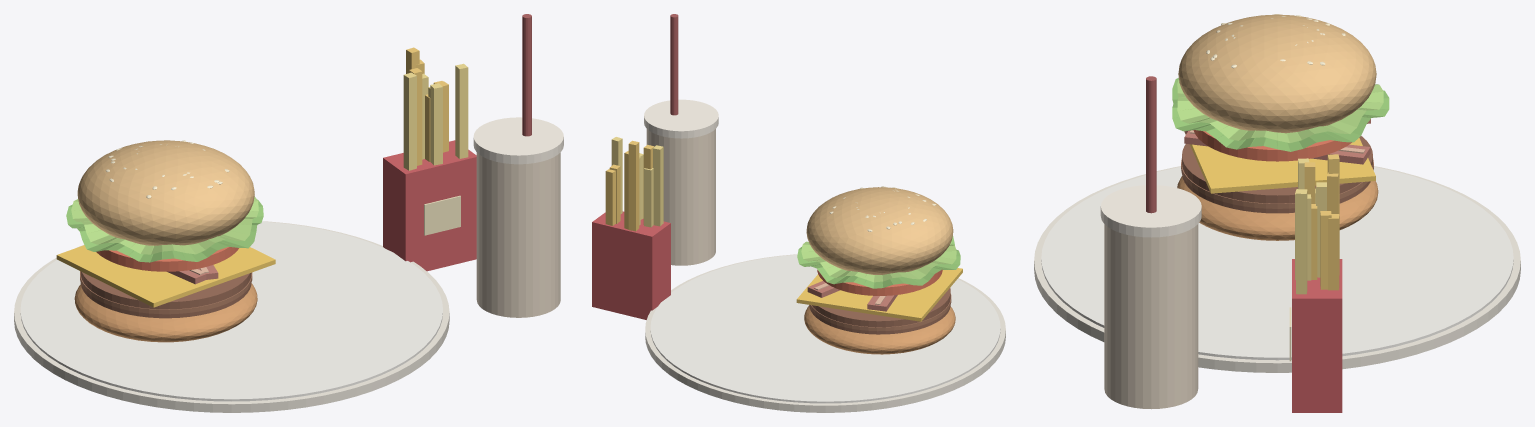
Rendered from combo-burger.glb.
3 renders of one model, left to right at view 1: azimuth 30°, elevation 25°; view 2: azimuth 150°, elevation 25°; view 3: azimuth 270°, elevation 25°, orthographic. The views are drawn at different scales.
Parts seen in each view (by area): view 1: borda_prato_2, pao_superior_14, copo_67, embalagem_fritas_53, prato_ceramica_1, queijo_6, pao_inferior_3, tampa_68, base_carne_4, alface_ondulada_13, alface_ondulada_12, tomate_11 (+7 smaller); view 2: borda_prato_2, pao_superior_14, embalagem_fritas_53, copo_67, prato_ceramica_1, pao_inferior_3, queijo_6, tampa_68, base_carne_4, alface_ondulada_13, alface_ondulada_12, batata_frita_61 (+8 smaller); view 3: borda_prato_2, pao_superior_14, copo_67, embalagem_fritas_53, prato_ceramica_1, queijo_6, tampa_68, pao_inferior_3, alface_ondulada_13, base_carne_4, alface_ondulada_12, tomate_11 (+9 smaller).
Boxes of the visible parts, bbox=[...] form: borda_prato_2: bbox=[20, 221, 442, 401]; pao_superior_14: bbox=[77, 140, 254, 245]; copo_67: bbox=[476, 152, 560, 317]; embalagem_fritas_53: bbox=[383, 140, 476, 271]; prato_ceramica_1: bbox=[14, 221, 449, 412]; queijo_6: bbox=[56, 245, 275, 307]; pao_inferior_3: bbox=[74, 283, 257, 342]; tampa_68: bbox=[473, 117, 563, 164]; base_carne_4: bbox=[80, 271, 251, 318]; alface_ondulada_13: bbox=[71, 196, 258, 254]; alface_ondulada_12: bbox=[66, 199, 263, 262]; tomate_11: bbox=[96, 247, 238, 271]; borda_prato_2: bbox=[650, 254, 1000, 403]; pao_superior_14: bbox=[806, 187, 953, 274]; embalagem_fritas_53: bbox=[592, 211, 670, 319]; copo_67: bbox=[646, 129, 715, 265]; prato_ceramica_1: bbox=[645, 254, 1005, 412]; pao_inferior_3: bbox=[804, 305, 955, 354]; queijo_6: bbox=[796, 268, 962, 321]; tampa_68: bbox=[644, 99, 718, 138]; base_carne_4: bbox=[809, 288, 950, 334]; alface_ondulada_13: bbox=[801, 241, 956, 282]; alface_ondulada_12: bbox=[797, 236, 960, 288]; batata_frita_61: bbox=[628, 140, 639, 231]; borda_prato_2: bbox=[1041, 167, 1513, 360]; pao_superior_14: bbox=[1178, 14, 1376, 133]; copo_67: bbox=[1104, 224, 1198, 409]; embalagem_fritas_53: bbox=[1292, 259, 1342, 412]; prato_ceramica_1: bbox=[1034, 166, 1520, 372]; queijo_6: bbox=[1184, 132, 1375, 193]; tampa_68: bbox=[1100, 185, 1201, 237]; pao_inferior_3: bbox=[1177, 176, 1378, 240]; alface_ondulada_13: bbox=[1177, 79, 1383, 142]; base_carne_4: bbox=[1182, 136, 1372, 213]; alface_ondulada_12: bbox=[1172, 78, 1389, 151]; tomate_11: bbox=[1193, 130, 1351, 161].
Size of the model in its own units: 0.328 by 0.2 by 0.27.
